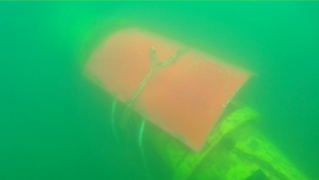leak: (82, 23, 255, 152)
pipe: (110, 97, 310, 180), (48, 1, 129, 74)
